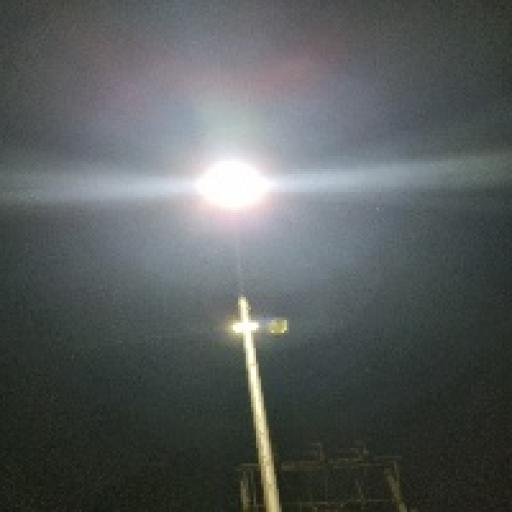Working: (188, 148, 282, 220)
